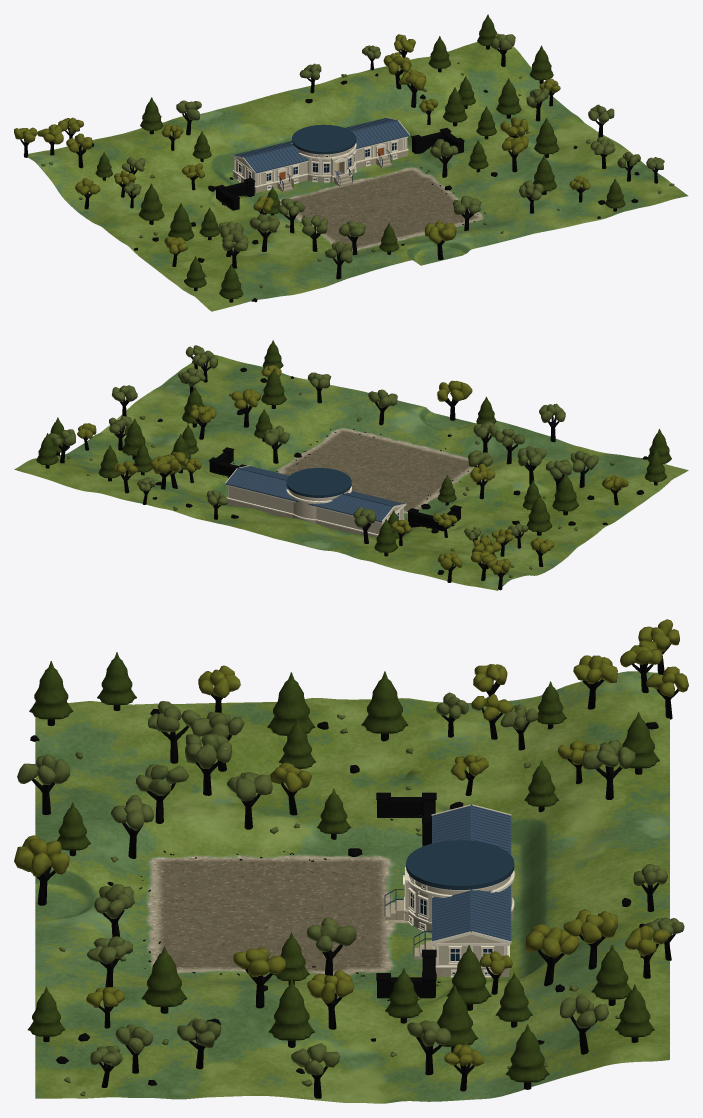
The model's file is lab.glb.
The picture shows the model from 3 angles, top to bottom: view 1: azimuth 30°, elevation 25°; view 2: azimuth 150°, elevation 25°; view 3: azimuth 270°, elevation 25°; orthographic projection. The views are drawn at different scales.
Parts seen in each view (by area): view 1: ground, props, lab; view 2: ground, props, lab; view 3: ground, props, lab.
Part boxes in pixels (x1,y1,x2,y2): ground: (23,42,688,311); props: (14,14,674,302); lab: (231,117,409,192); ground: (14,354,688,590); props: (36,340,671,590); lab: (225,465,406,537); ground: (35,671,669,1103); props: (14,619,688,1098); lab: (384,804,514,977).
Bounding box in the file's own units: 59.19 × 7.68 × 41.48.
5 materials, 5 textured.
